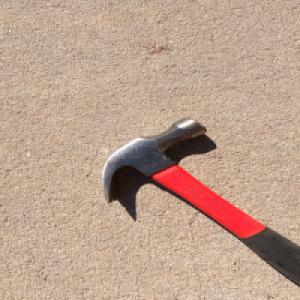Hammer: (97, 114, 300, 286)
